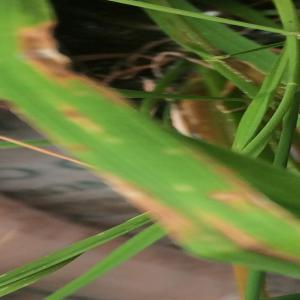Rice_Blast: (93, 160, 201, 252), (12, 14, 104, 84), (204, 165, 300, 223), (55, 99, 116, 139)
